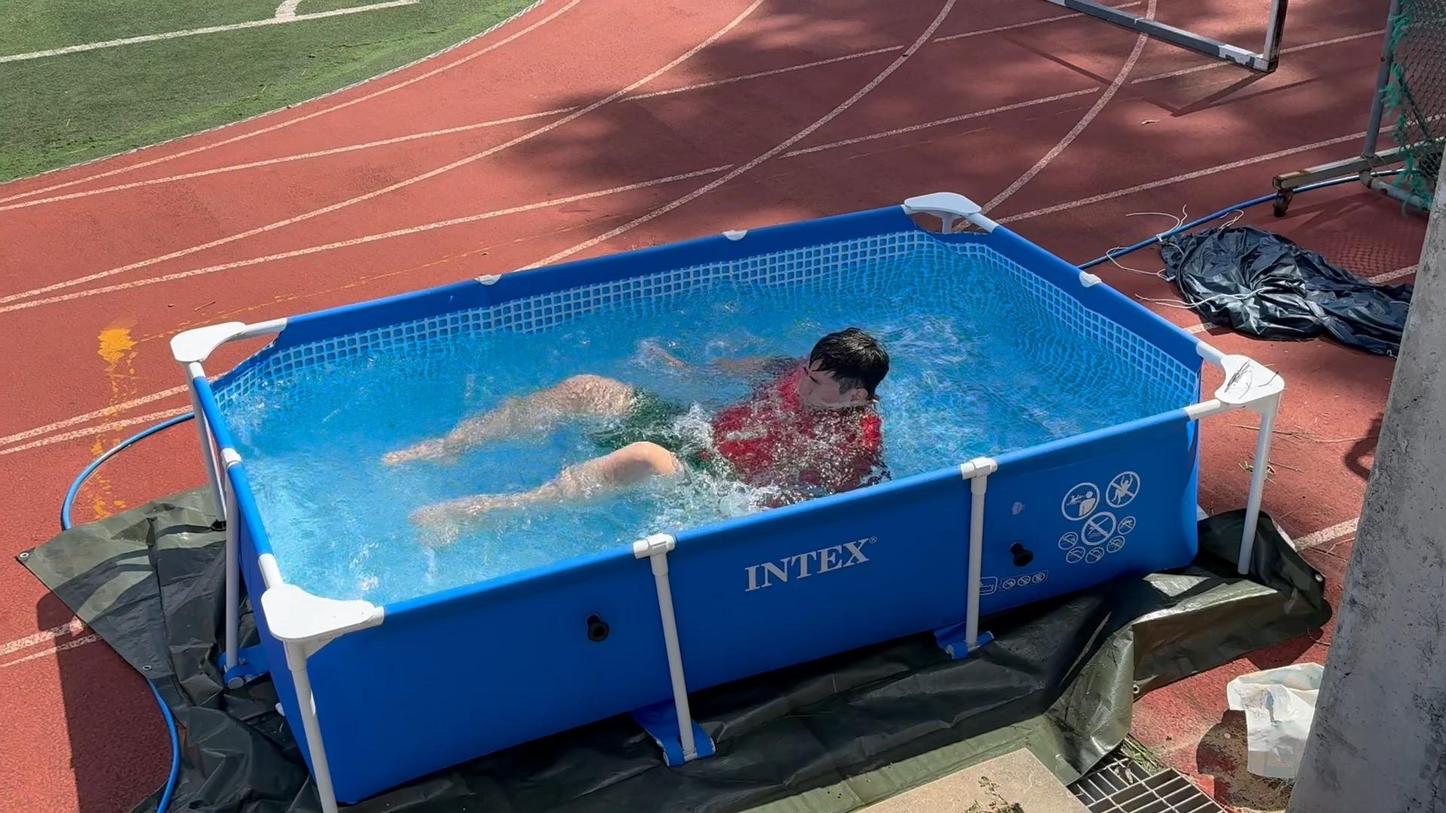Drowning: (357, 306, 931, 575)
